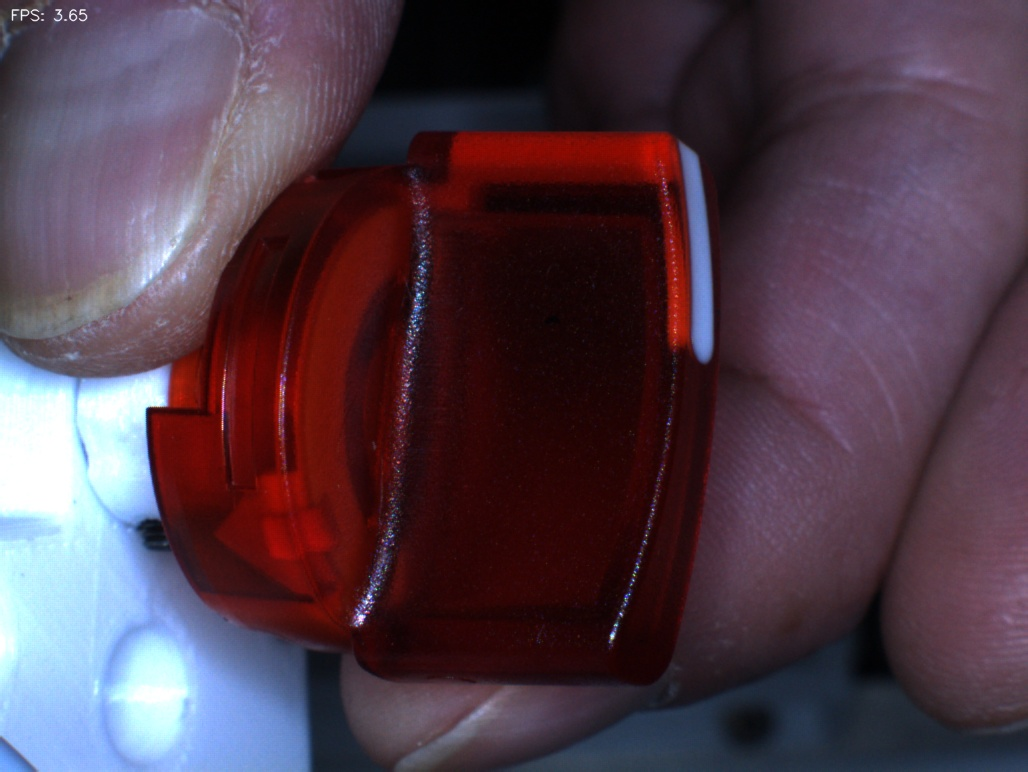PointNoir: (518, 273, 600, 364)
